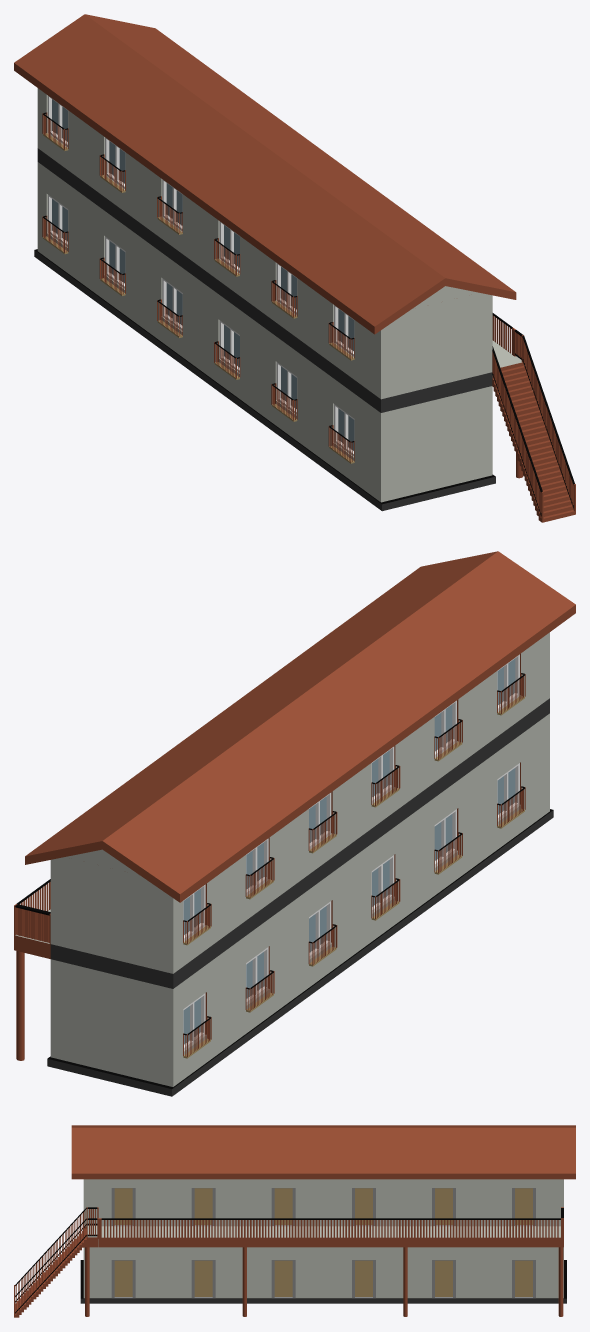
File: building15 1.fbx
The picture shows the model from 3 angles, top to bottom: view 1: azimuth 30°, elevation 25°; view 2: azimuth 150°, elevation 25°; view 3: azimuth 270°, elevation 25°; orthographic projection. The views are drawn at different scales.
Parts seen in each view (by area): view 1: 立方体; view 2: 立方体; view 3: 立方体.
Boxes of the visible parts, x1=… form: 立方体: x1=14, y1=14, x2=575, y2=522; 立方体: x1=14, y1=551, x2=575, y2=1096; 立方体: x1=14, y1=1125, x2=575, y2=1317.
Bounding box in the file's own units: 10.69 × 14.55 × 46.48.
